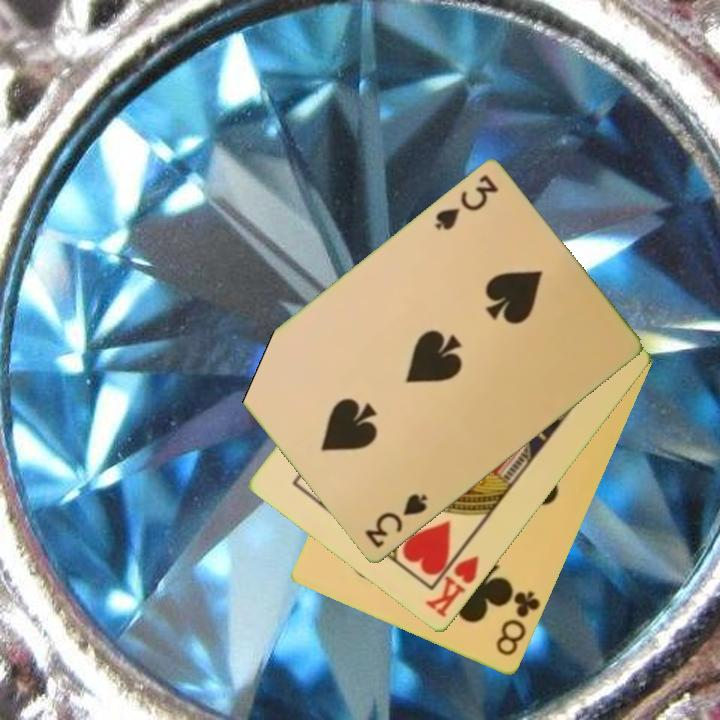3s: (431, 171, 501, 234), (361, 490, 431, 552)
8c: (492, 588, 544, 660)
Kh: (422, 540, 482, 621)
